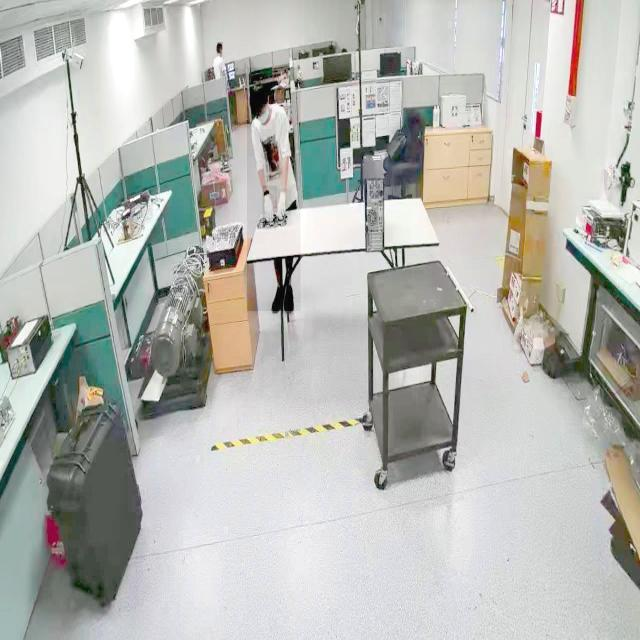face_mask: (255, 104, 272, 129)
hand_glove: (276, 188, 292, 228), (262, 186, 276, 231)
head_nohelmet: (250, 81, 266, 102), (217, 42, 223, 47)
person: (247, 68, 300, 312)
shoes: (270, 278, 286, 320), (283, 278, 296, 317)
